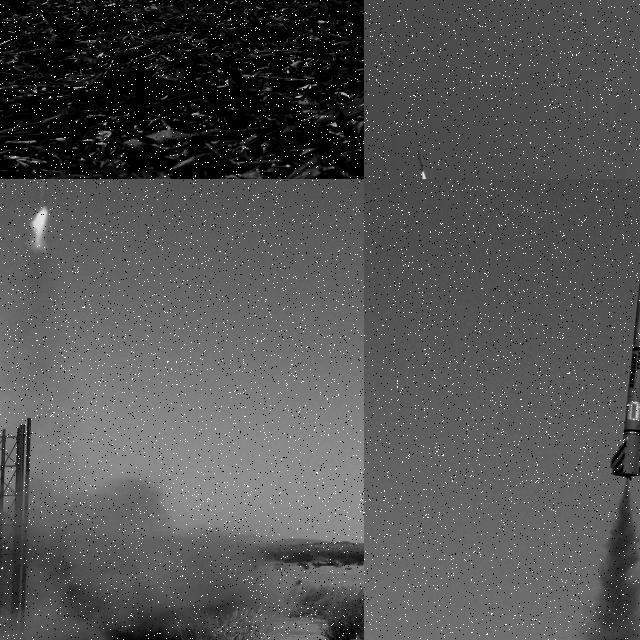Rocket: (607, 216, 640, 479), (417, 150, 425, 172)
